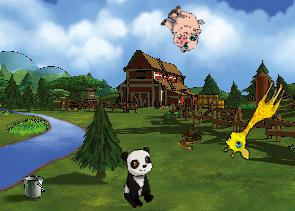giraffe: (219, 72, 289, 165)
panda: (119, 146, 157, 209)
pig: (154, 0, 210, 56)
